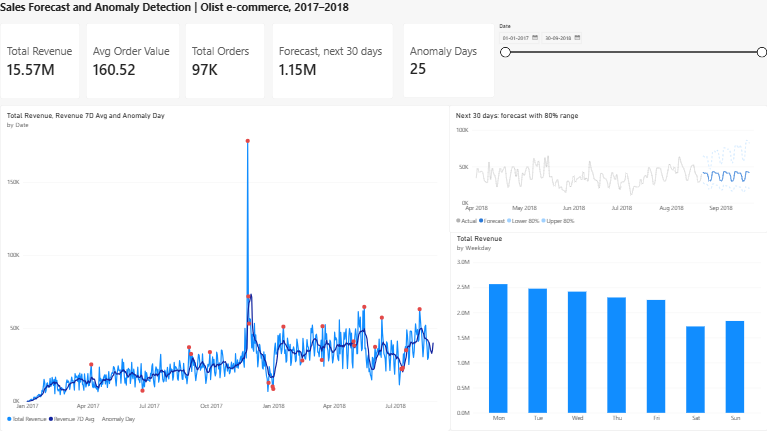

The dashboard page shown, as its layout file describes it:
{"tool":"powerbi","page":{"name":"Overview","canvas":[1920,1080],"ordinal":0},"visuals":[{"type":"cardVisual","fields":{"Data":["Sales.Total Revenue"]},"box":[0,60,200.7,190.2],"z":0},{"type":"cardVisual","fields":{"Data":["Sales.Total Orders"]},"box":[461.4,60,200.7,190.2],"z":1000},{"type":"cardVisual","fields":{"Data":["Sales.Avg Order Value"]},"box":[214.3,60,235,190.2],"z":2000},{"type":"lineChart","fields":{"Category":["Date.Date"],"Y":["Sales.Total Revenue","Sales.Revenue 7D Avg","Sales.Anomaly Revenue (Model)"]},"box":[0,264.3,1125.7,815.7],"z":3000},{"type":"clusteredColumnChart","fields":{"Category":["Date.Weekday"],"Y":["Sales.Total Revenue"]},"box":[1125.1,573.1,794.9,507.1],"z":4000},{"type":"lineChart","title":"Next 30 days: forecast with 80% range","fields":{"Category":["Date.Date"],"Y":["Sales.Total Revenue","Forecast.Forecast Revenue","Forecast.Forecast Lower 80","Forecast.Forecast Upper 80"]},"box":[1122.9,264.3,797.1,320],"z":5000},{"type":"cardVisual","fields":{"Data":["Sales.Anomaly Days"]},"box":[1008.6,60,229.8,187.5],"z":6000},{"type":"cardVisual","fields":{"Data":["Forecast.Forecast Revenue"]},"box":[680,60,303.7,190.2],"z":7000},{"type":"textbox","box":[0,0,1920,44.3],"z":7001},{"type":"slicer","fields":{"Values":["Date.Date"]},"box":[1239,60,681,188],"z":7002}]}

Visuals, with their boxes in screenshot pixels (x1, y1, x2, y2), scaled from the page's 1920x1080 canvas onto the 767x431 screenshot:
cardVisual - Sales.Total Revenue: [x1=0, y1=24, x2=80, y2=100]
cardVisual - Sales.Total Orders: [x1=184, y1=24, x2=264, y2=100]
cardVisual - Sales.Avg Order Value: [x1=86, y1=24, x2=179, y2=100]
lineChart - Date.Date x Sales.Total Revenue: [x1=0, y1=105, x2=450, y2=430]
clusteredColumnChart - Date.Weekday x Sales.Total Revenue: [x1=449, y1=229, x2=766, y2=430]
"Next 30 days: forecast with 80% range" lineChart: [x1=449, y1=105, x2=766, y2=233]
cardVisual - Sales.Anomaly Days: [x1=403, y1=24, x2=495, y2=99]
cardVisual - Forecast.Forecast Revenue: [x1=272, y1=24, x2=393, y2=100]
textbox: [x1=0, y1=0, x2=766, y2=18]
slicer - Date.Date: [x1=495, y1=24, x2=766, y2=99]
